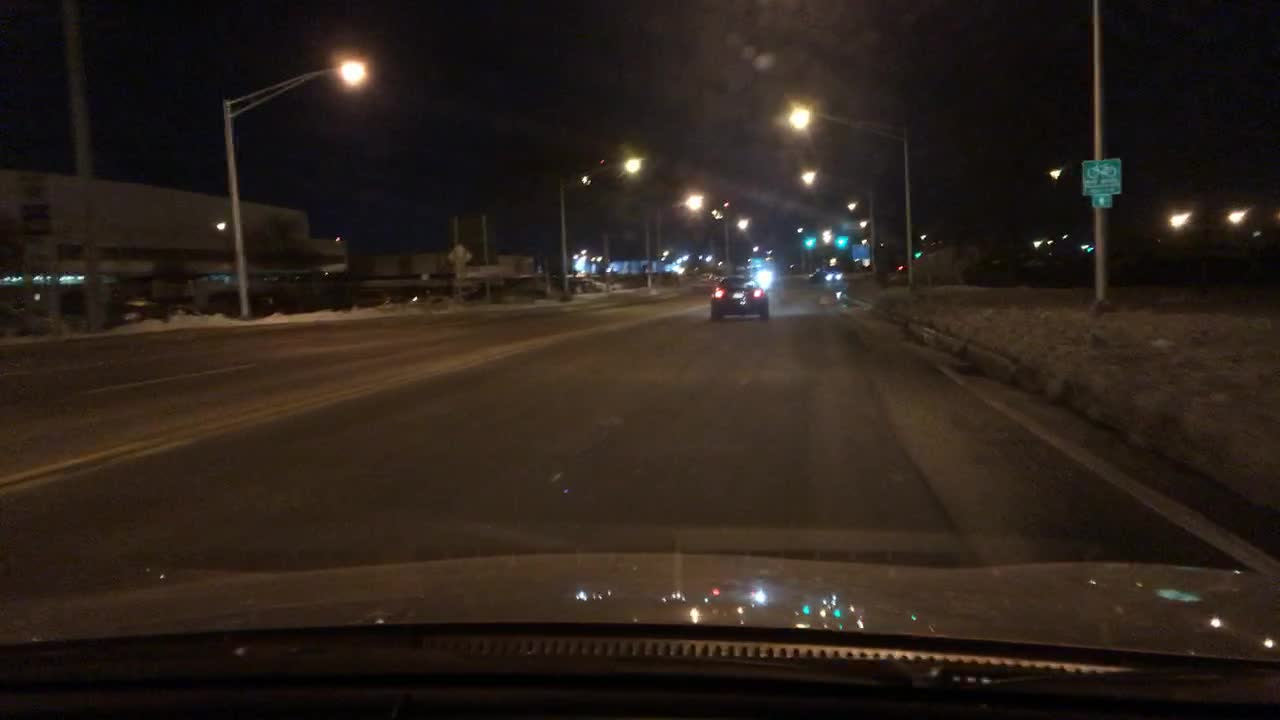car: (105, 296, 202, 333), (711, 275, 770, 319), (356, 291, 395, 306), (810, 266, 844, 282), (756, 270, 773, 286)
traffic light: (837, 233, 846, 250), (805, 234, 814, 250)
traffic sign: (1081, 157, 1122, 193), (445, 244, 472, 268), (1092, 195, 1114, 207)
